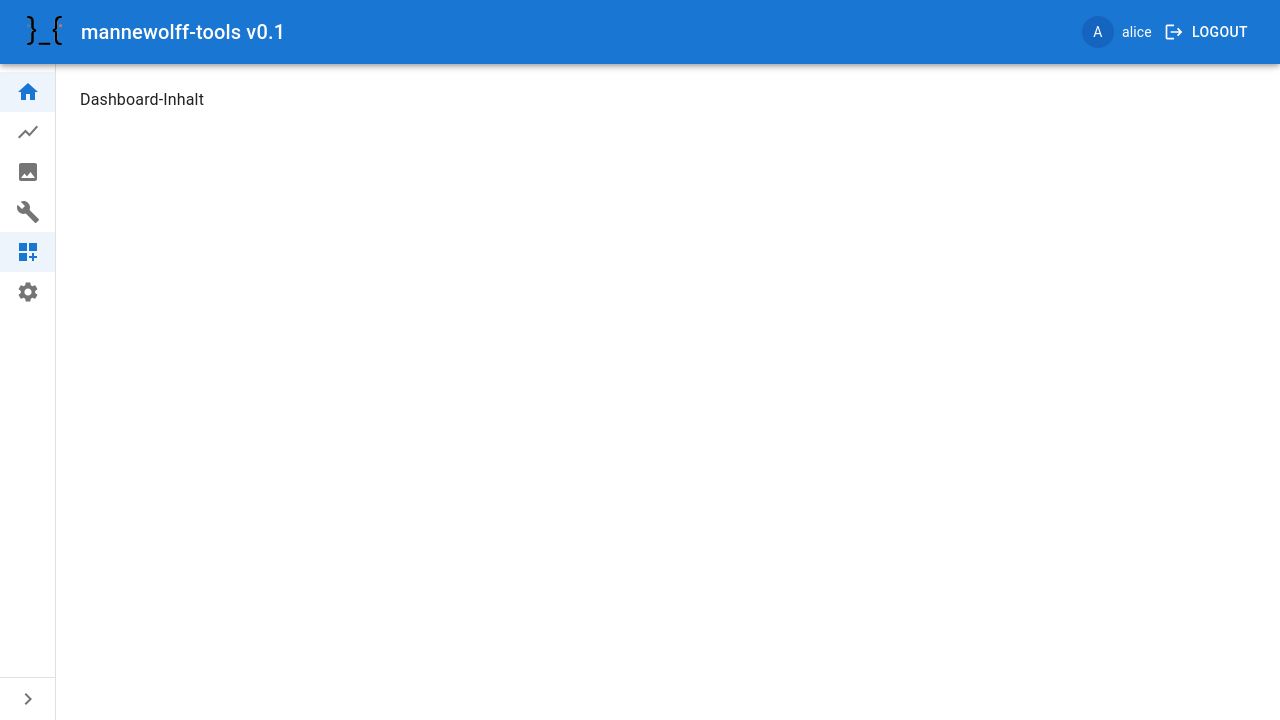
Test case: AppShell collapsed sidebar › öffnet im collapsed-Zustand ein Flyout-Menü mit den Gruppen-Unterpunkten und navigiert (#340)
Note: Klick aufs Bildverarbeitungs-Gruppen-Icon öffnet das Flyout mit den Unterpunkten.
Click the button named "Bildverarbeitung" at (28, 172), box [16,160,40,184]
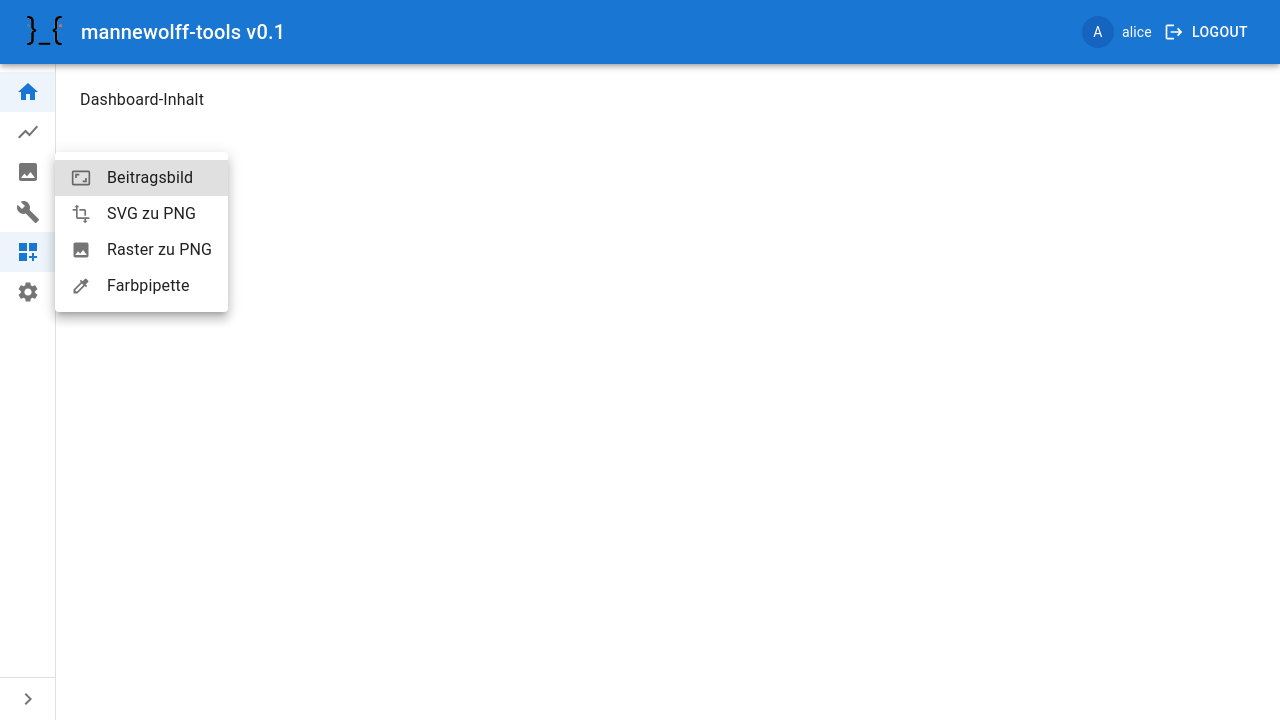
Expected: the text "SVG zu PNG" is shown, [107,204,196,223]
Expected: the text "Farbpipette" is shown, [107,276,190,295]
Note: Auswahl navigiert und schließt das Flyout.
Click the menu item "SVG zu PNG" at (134, 214), box [71,204,196,224]
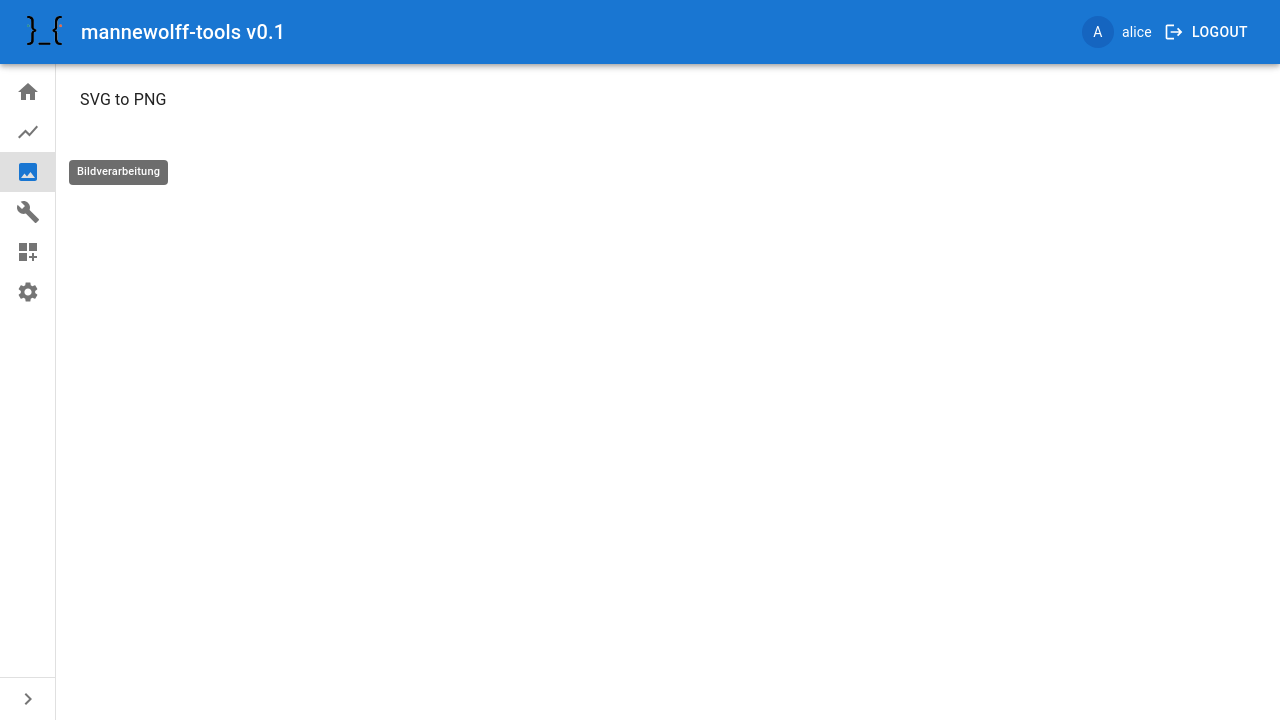
Expected: the text "SVG to PNG" is shown, [80,90,166,109]
Expected: the menu "Beitragsbild SVG zu PNG Raster zu PNG Farbpipette" is gone
